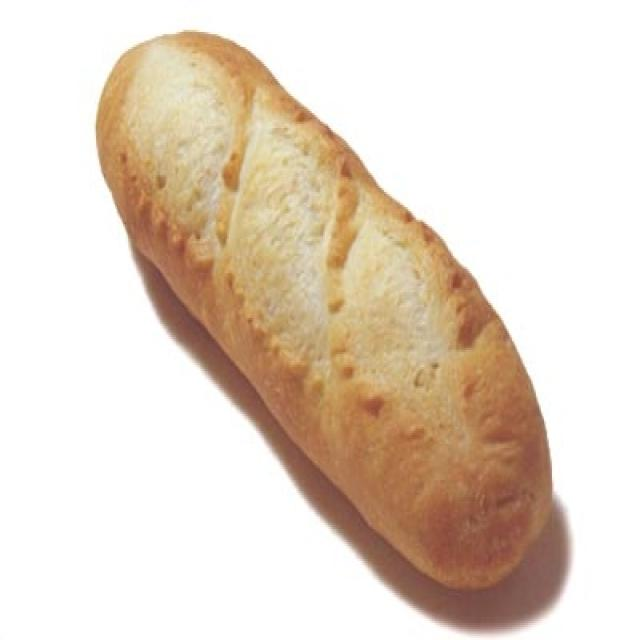面包点心: (93, 34, 544, 587)
